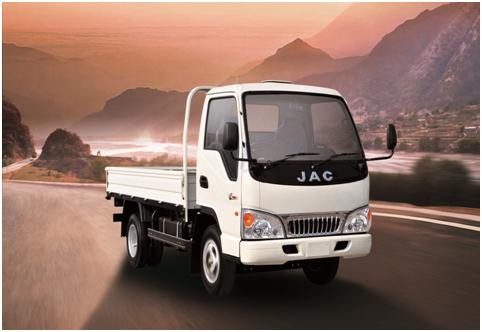truck: (105, 80, 399, 298)
